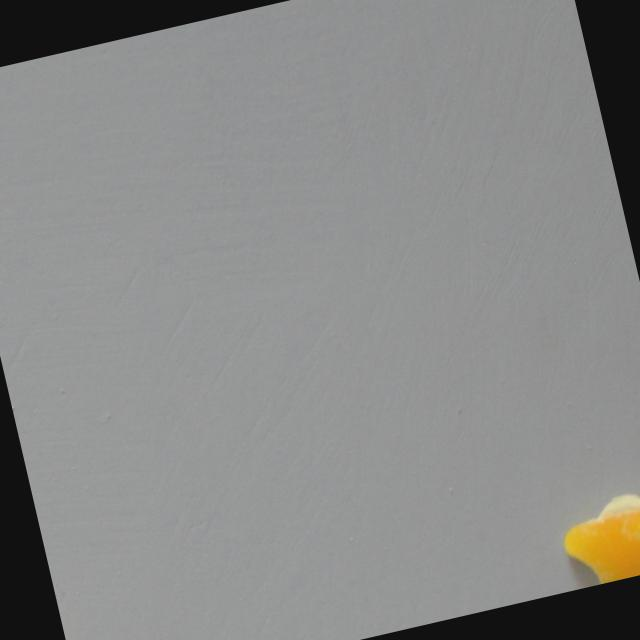dañado: (546, 487, 640, 592), (56, 595, 83, 640)
